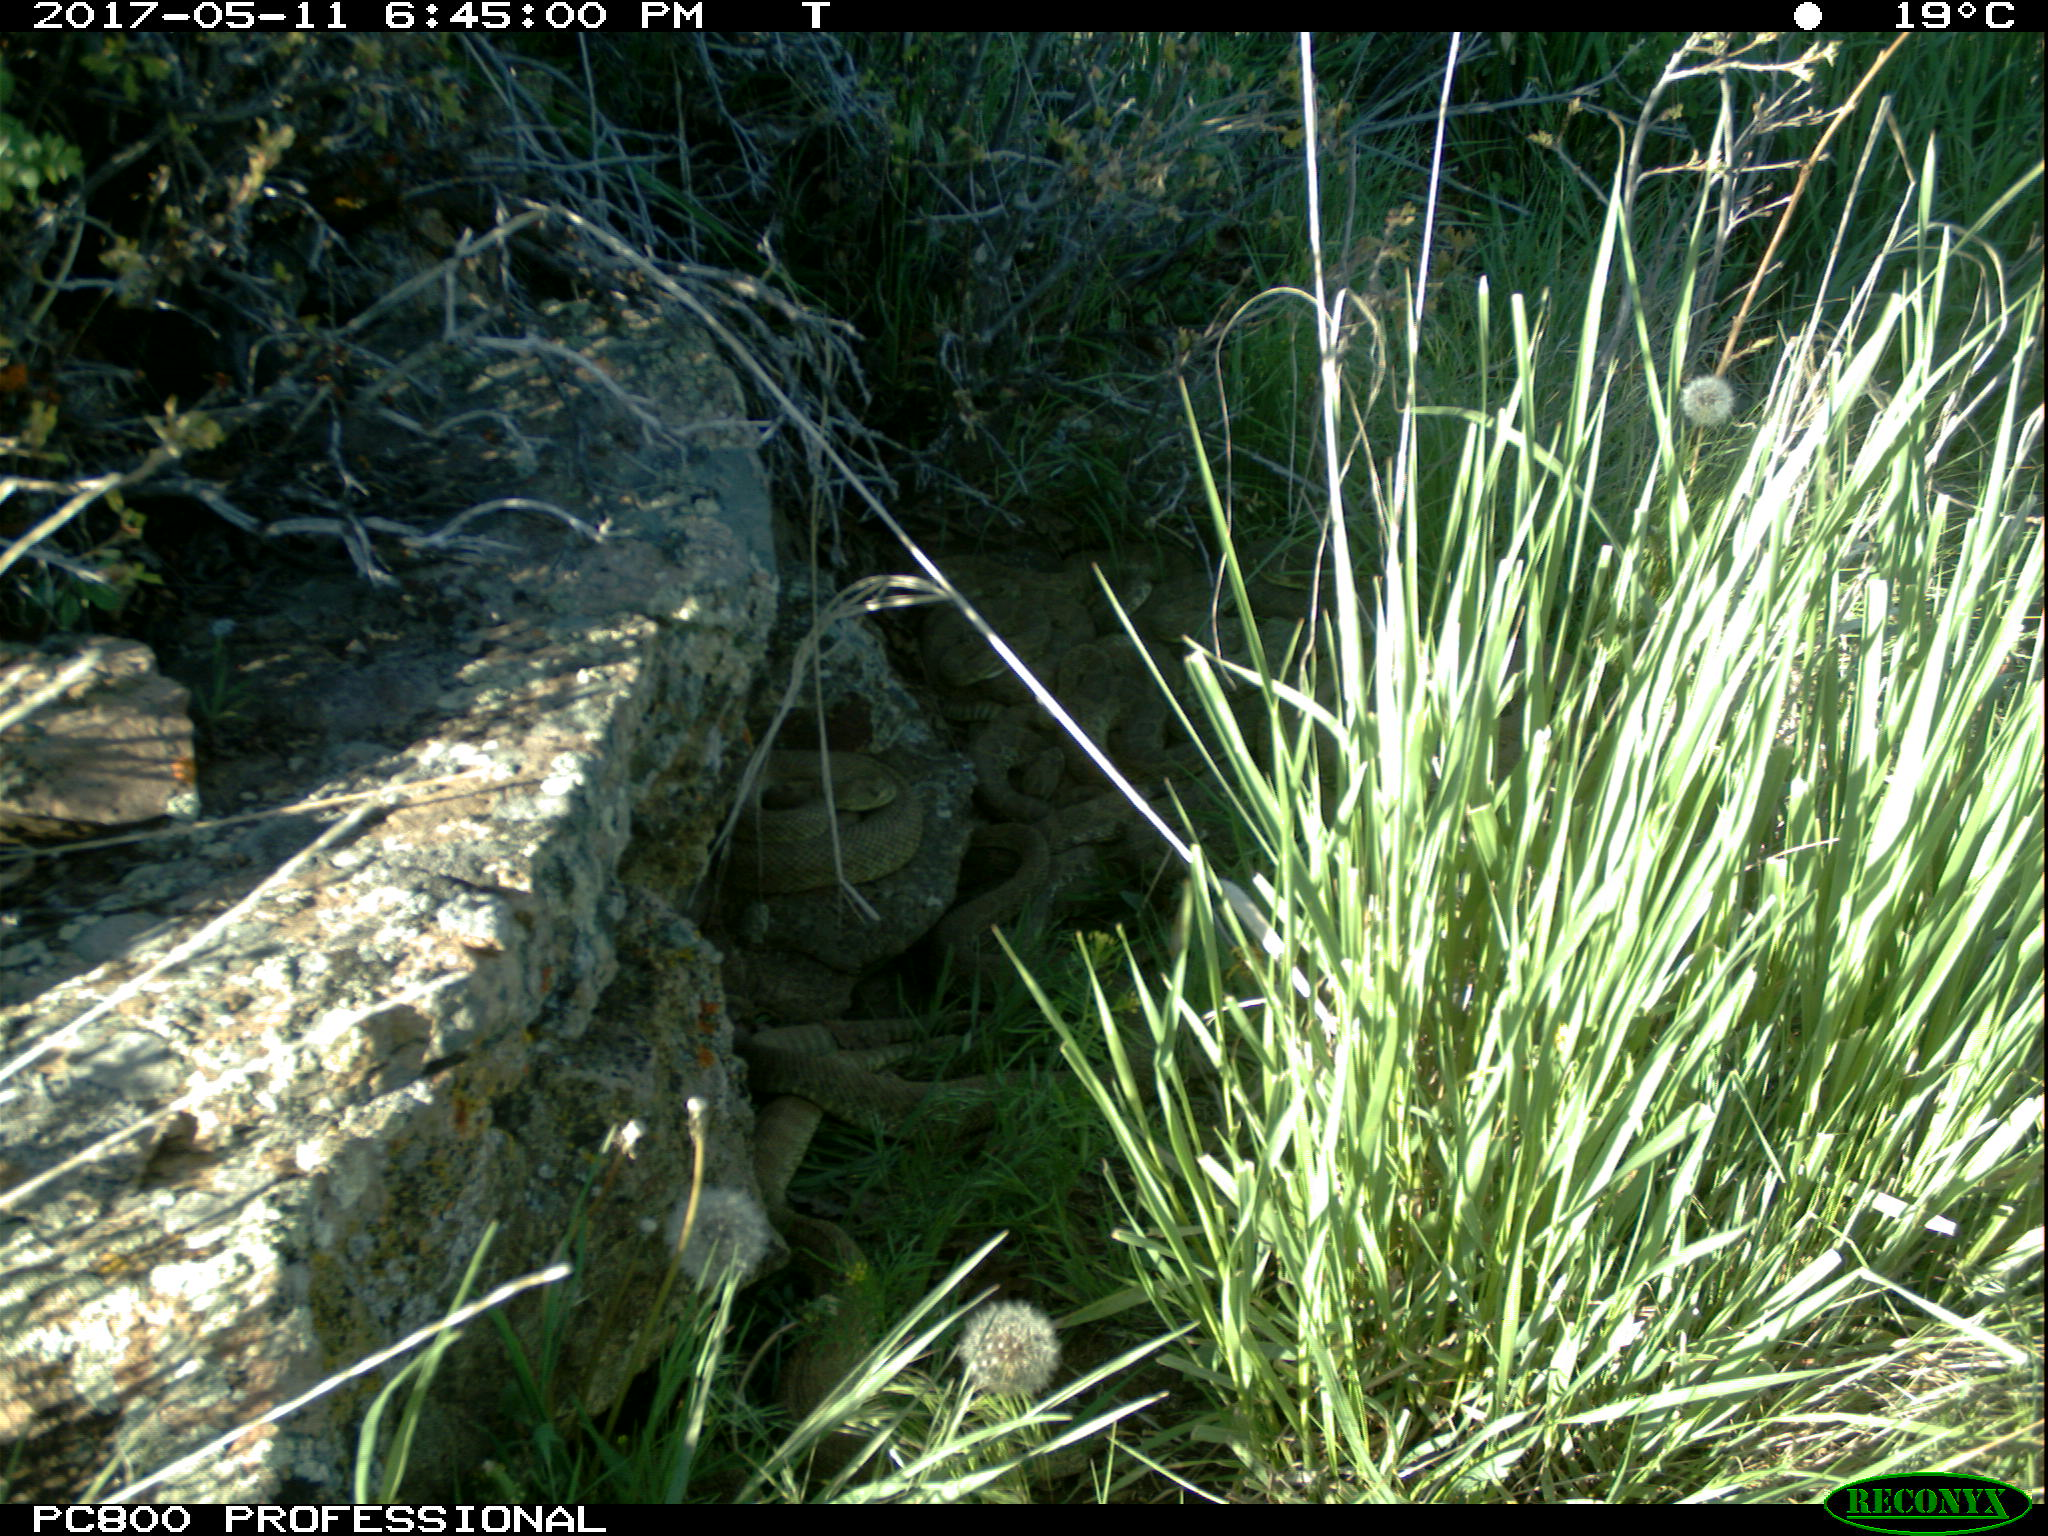snake: (748, 1015, 1043, 1131), (943, 708, 1061, 991), (1027, 631, 1200, 813), (742, 1089, 871, 1313), (737, 749, 926, 891), (1098, 549, 1317, 666), (906, 553, 1100, 679)
